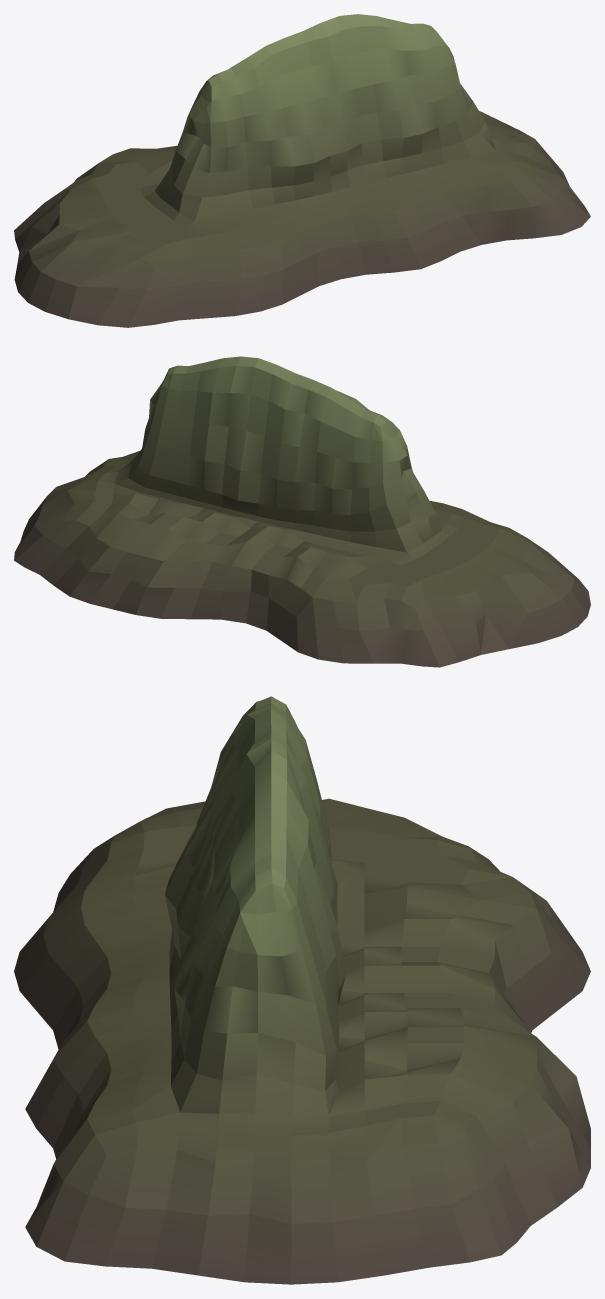
File: Monuntain_Desert_03_Big_0_1.fbx
The picture shows the model from 3 angles, top to bottom: view 1: azimuth 30°, elevation 25°; view 2: azimuth 150°, elevation 25°; view 3: azimuth 270°, elevation 25°; orthographic projection. The views are drawn at different scales.
Visible parts, largest first — view 1: Plateau_desert_005.001; view 2: Plateau_desert_005.001; view 3: Plateau_desert_005.001.
Boxes of the visible parts, x1=… form: Plateau_desert_005.001: x1=14, y1=14, x2=590, y2=327; Plateau_desert_005.001: x1=14, y1=356, x2=590, y2=667; Plateau_desert_005.001: x1=14, y1=696, x2=590, y2=1284.
Bounding box in the file's own units: 1154 × 417 × 622.
